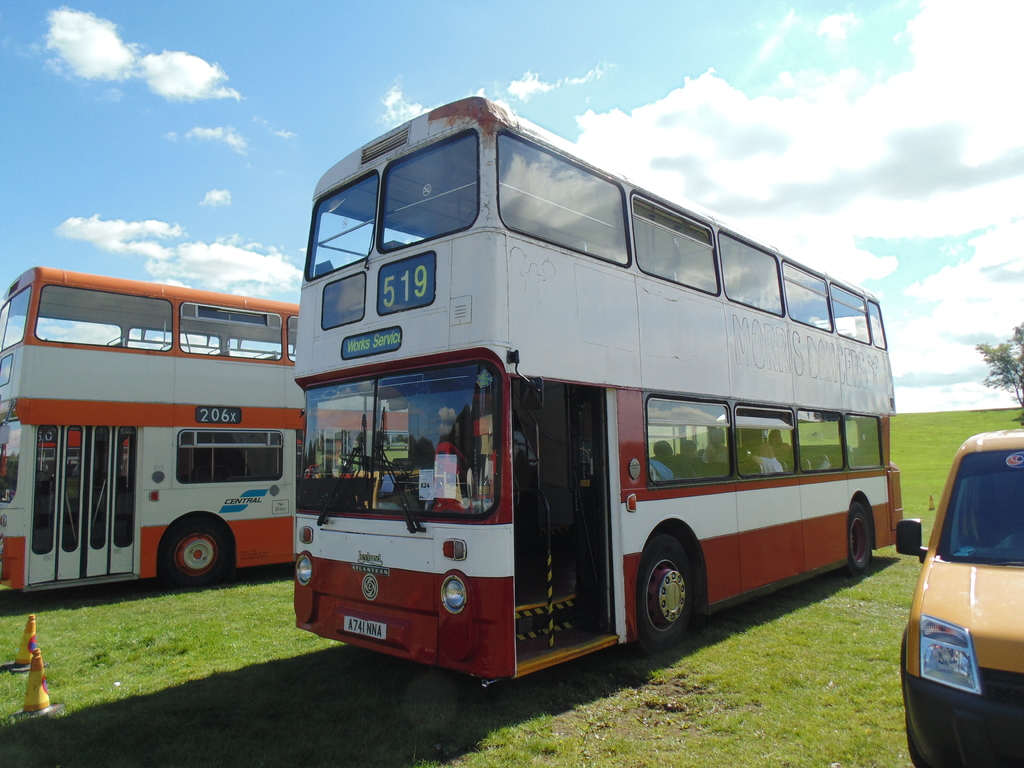Bus: (286, 92, 901, 680), (0, 263, 305, 591)
